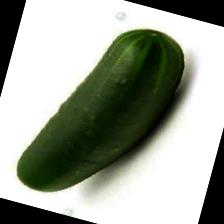cucumber: (11, 4, 192, 218)
